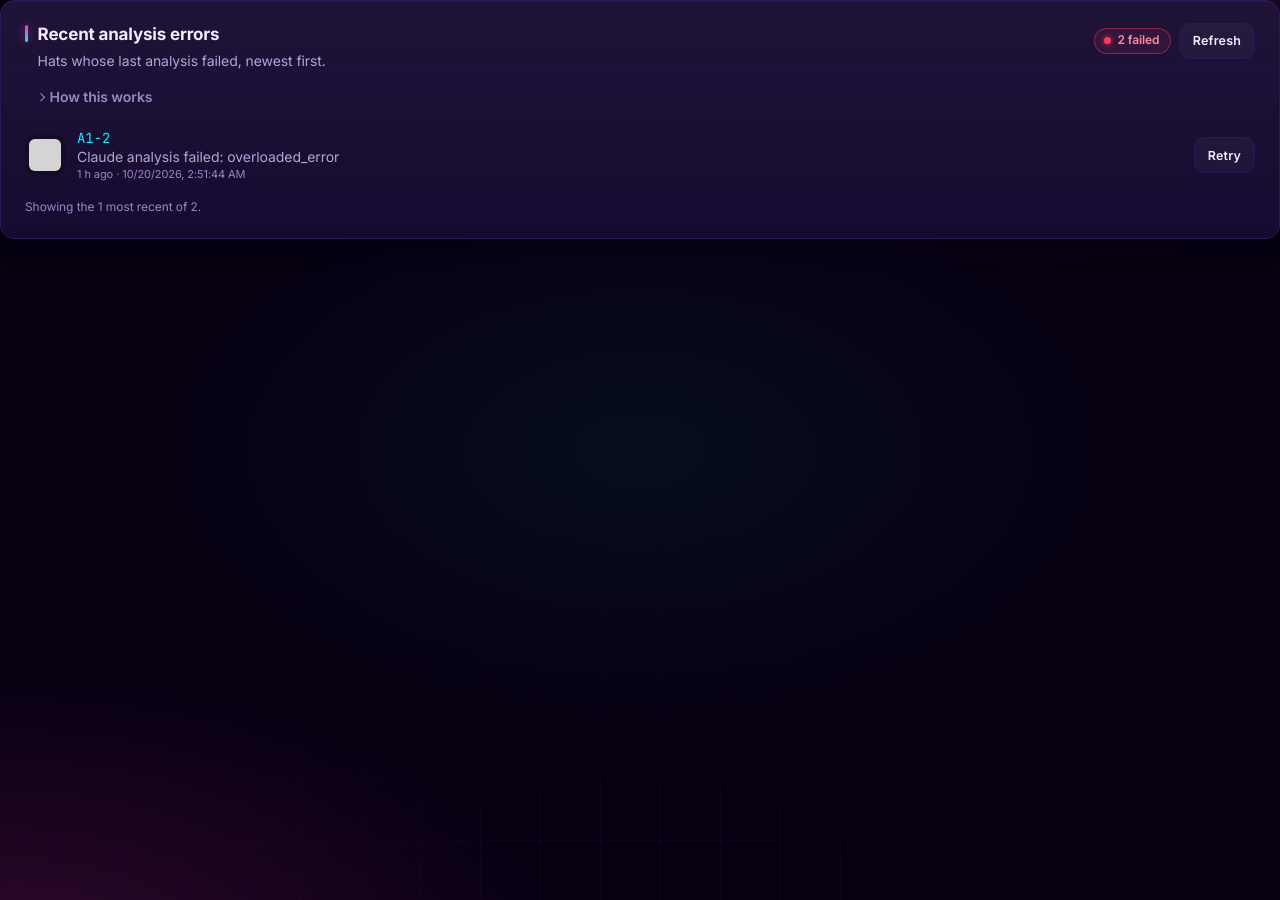
RecentErrorsCard › a row's retry refreshes the nav badge and the queue card, not only this list
The image size is (1280, 900).
Click the button with aria-label "Retry analysis for A1-2" at (1224, 155), box [1194,137,1255,173]
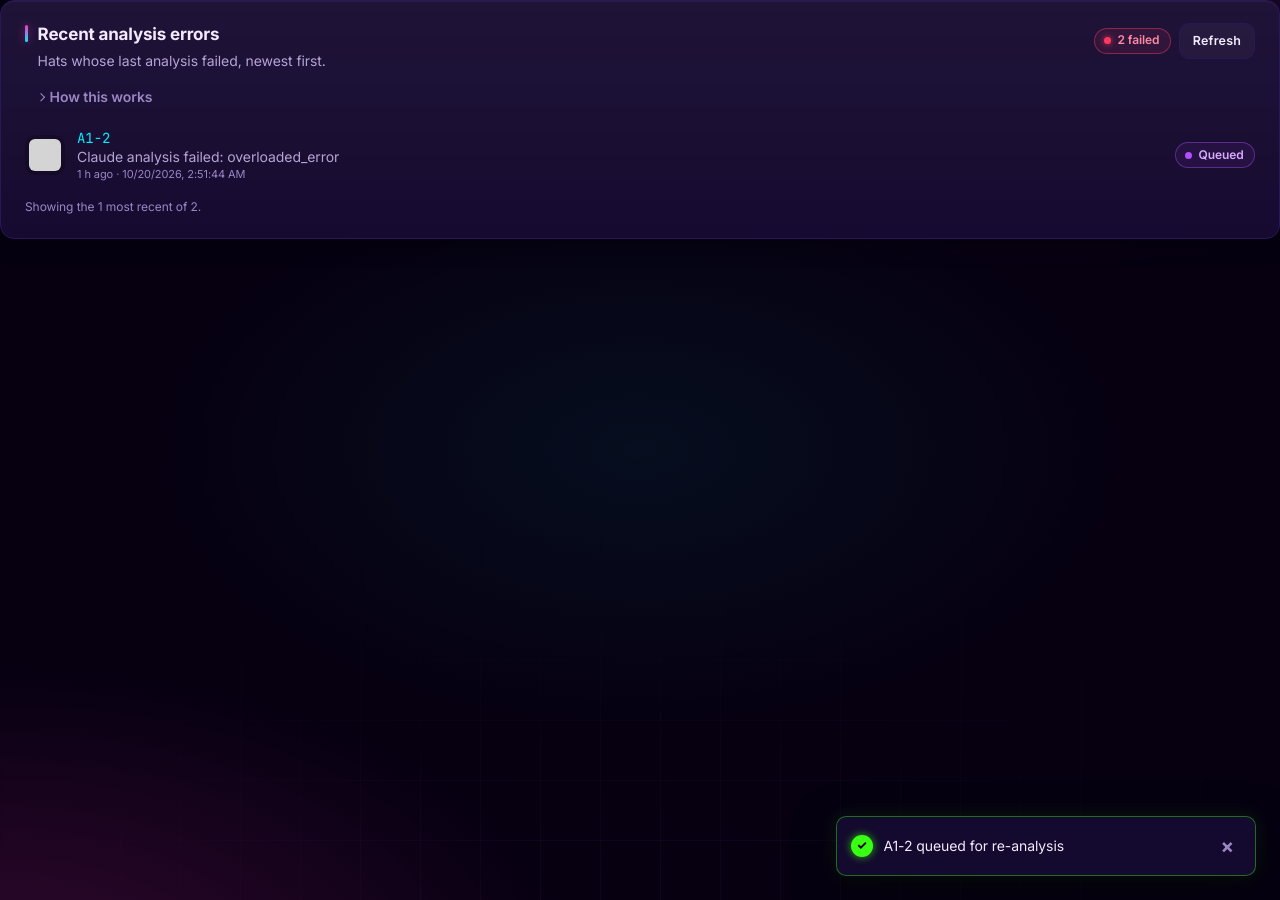
Result: the text "A1-2 queued for re-analysis" is shown at [883,837,1064,854]
